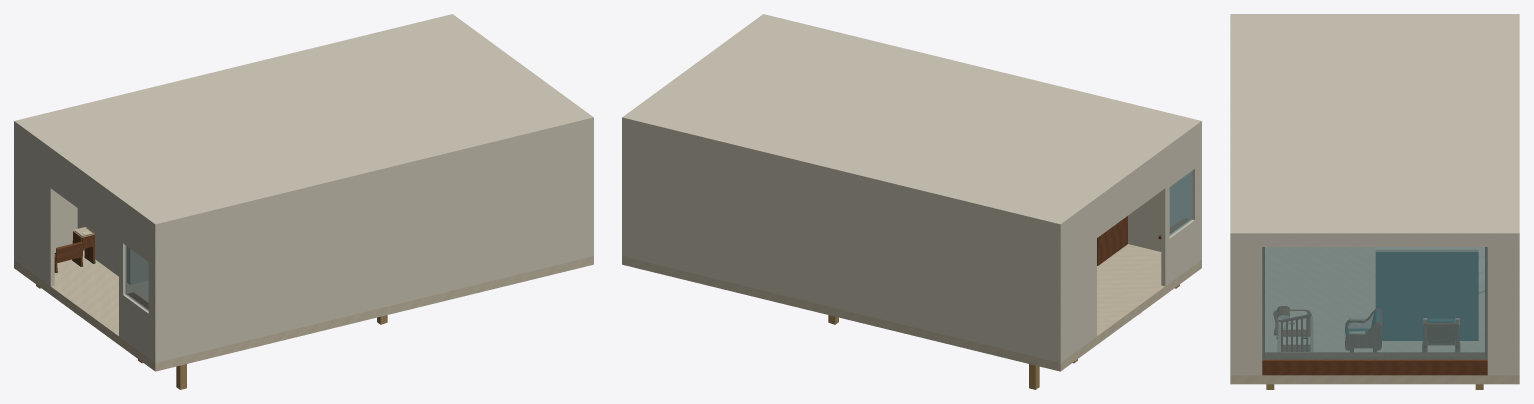
File: QuietGroveBank_481_r001.glb
3 views of the same model, side by side, from view 1: azimuth 30°, elevation 25°; view 2: azimuth 150°, elevation 25°; view 3: azimuth 270°, elevation 25° (orthographic). The views are drawn at different scales.
Parts seen in each view (by area): view 1: QG481_Ceiling, QG481_NorthSide, QG481_RoomFloor, QG481_EntryShoulderSouth, QG481_EntryHeader, QG481_StreetWindowLower, QG481_WashEntrySide, QG481_SouthSide, QG481_StreetWindowUpper, QG481_ScreenedStreetGlass, QGB481_CourtSouthPier; view 2: QG481_Ceiling, QG481_SouthSide, QG481_RoomFloor, QG481_EntryShoulderSouth, QG481_NorthSide, QG481_EntryHeader, QG481_StreetWindowLower, QG481_StreetWindowUpper, QG481_ScreenedStreetGlass, QG481_EntryPrivacyDogleg; view 3: QG481_Ceiling, QGB481_PrivateCourtGlass, QG481_RoomFloor, QG481_Cocoon01_RearLiner, QGB481_CourtNorthPier, QGB481_CourtSouthPier, QGB481_CourtSill, QGB481_CourtHeader, QGB481_DeepReveal_0.34, QG481_NorthSide, QG481_SouthSide, QG481_QG481_DayReadingChair__DAY_CHAIR_L_swept_walnut_cheek (+6 smaller).
Boxes of the visible parts, x1,y1,x2,y2 form: QG481_Ceiling: (14,14,593,229); QG481_NorthSide: (153,123,593,362); QG481_RoomFloor: (14,250,593,371); QG481_EntryShoulderSouth: (16,128,54,286); QG481_EntryHeader: (49,153,119,238); QG481_StreetWindowLower: (119,292,152,360); QG481_WashEntrySide: (77,208,133,284); QG481_SouthSide: (14,127,77,260); QG481_StreetWindowUpper: (119,203,152,264); QG481_ScreenedStreetGlass: (125,245,148,310); QGB481_CourtSouthPier: (585,123,593,257); QG481_Ceiling: (622,14,1201,229); QG481_SouthSide: (622,123,1062,362); QG481_RoomFloor: (622,244,1201,371); QG481_EntryShoulderSouth: (1063,203,1096,360); QG481_NorthSide: (1128,127,1201,260); QG481_EntryHeader: (1096,154,1165,238); QG481_StreetWindowLower: (1161,217,1199,286); QG481_StreetWindowUpper: (1163,128,1199,190); QG481_ScreenedStreetGlass: (1169,171,1192,235); QG481_EntryPrivacyDogleg: (1097,216,1127,265); QG481_Ceiling: (1230,14,1519,238); QGB481_PrivateCourtGlass: (1262,247,1487,359); QG481_RoomFloor: (1230,247,1519,384); QG481_Cocoon01_RearLiner: (1378,252,1475,340); QGB481_CourtNorthPier: (1487,239,1519,375); QGB481_CourtSouthPier: (1230,239,1262,375); QGB481_CourtSill: (1262,358,1487,375); QGB481_CourtHeader: (1262,239,1487,246); QGB481_DeepReveal_0.34: (1265,352,1484,357); QG481_NorthSide: (1230,239,1234,375); QG481_SouthSide: (1515,239,1519,375); QG481_QG481_DayReadingChair__DAY_CHAIR_L_swept_walnut_cheek: (1345,322,1381,350).
Size of the model in its own units: 12.9 by 5.31 by 7.2.
Materials: 64 (49 with a texture image).
